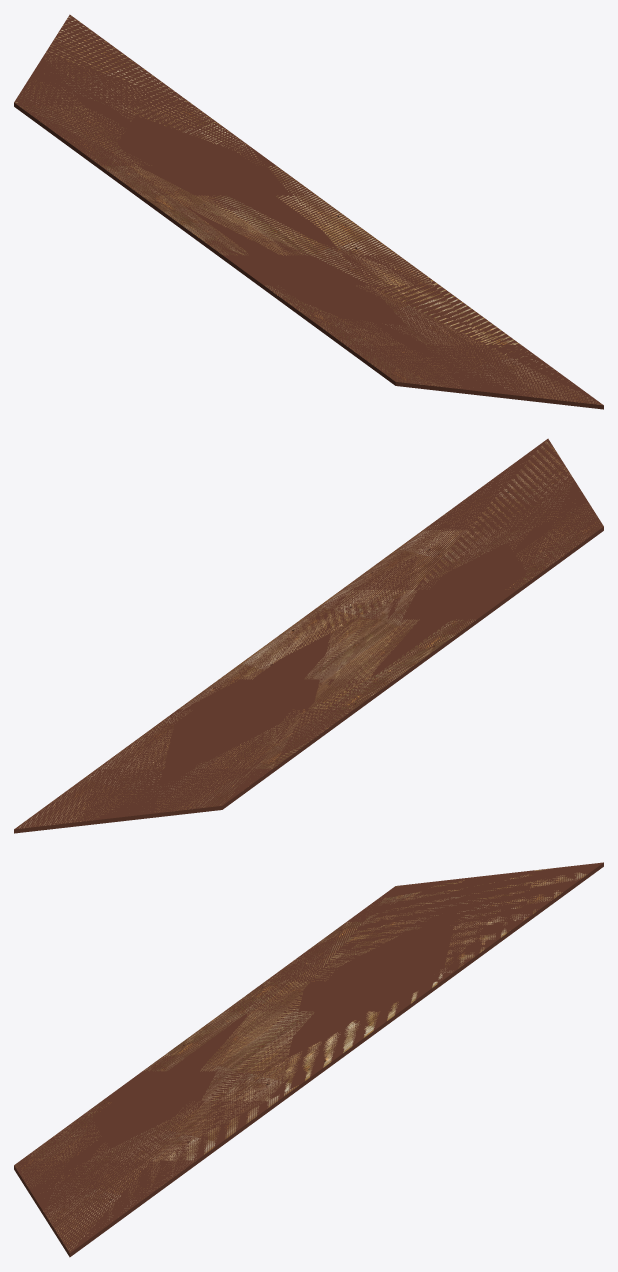
File: original-33.obj
3 views of the same model, one above another, from view 1: azimuth 30°, elevation 25°; view 2: azimuth 150°, elevation 25°; view 3: azimuth 330°, elevation 25° (orthographic).
Visible parts, largest first — view 1: veneer_short1/veneer_short/mesh32/mesh32-geometry#mesh32-geometr; view 2: veneer_short1/veneer_short/mesh32/mesh32-geometry#mesh32-geometr; view 3: veneer_short1/veneer_short/mesh32/mesh32-geometry#mesh32-geometr.
Part boxes in pixels (x1=…): veneer_short1/veneer_short/mesh32/mesh32-geometry#mesh32-geometr: x1=14, y1=14, x2=603, y2=409; veneer_short1/veneer_short/mesh32/mesh32-geometry#mesh32-geometr: x1=14, y1=438, x2=603, y2=833; veneer_short1/veneer_short/mesh32/mesh32-geometry#mesh32-geometr: x1=14, y1=862, x2=603, y2=1257.
Bounding box in the file's own units: 0.1014 × 0.00304 × 0.7101.
